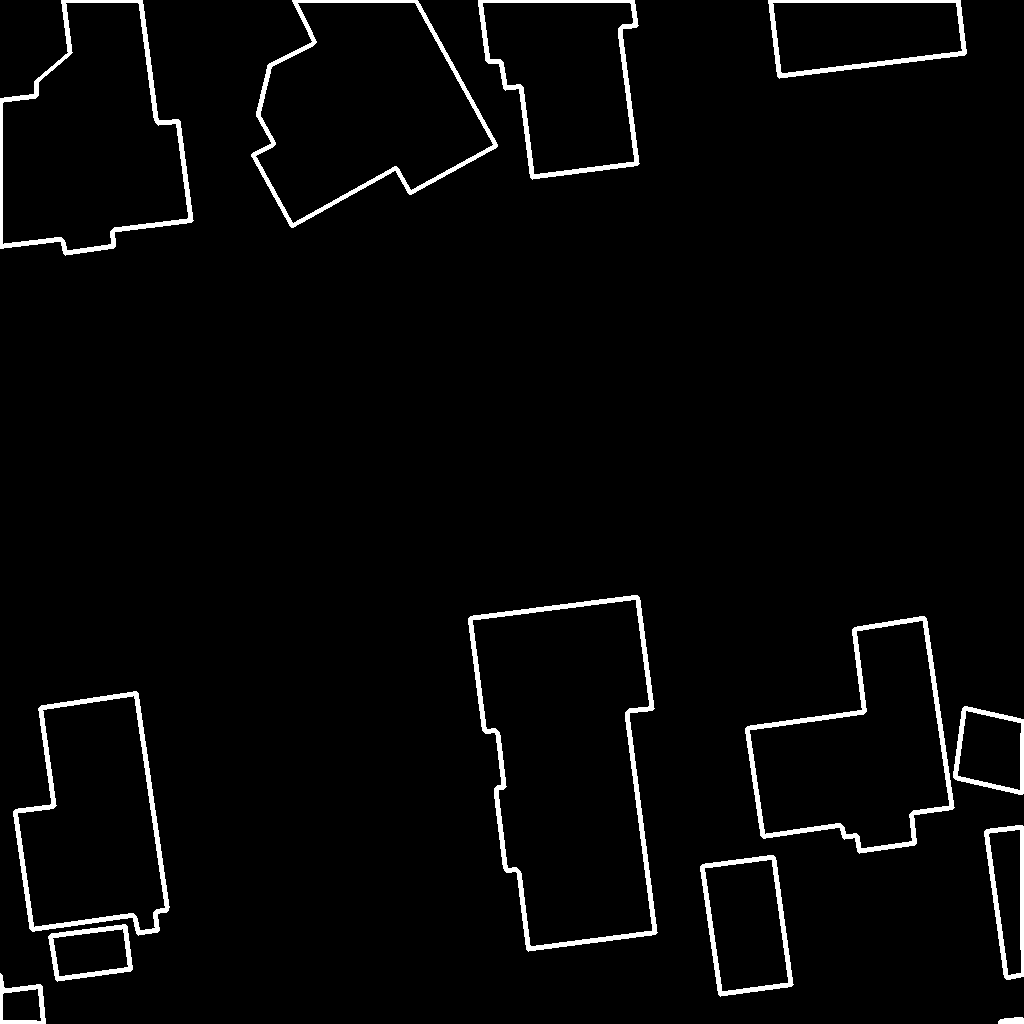building: (470, 597, 656, 950), (253, 0, 497, 227), (0, 0, 192, 254), (747, 618, 953, 852), (15, 693, 168, 934), (480, 0, 638, 178), (770, 0, 966, 77), (702, 857, 792, 995), (955, 708, 1024, 794), (986, 827, 1024, 979), (50, 926, 132, 980), (0, 972, 45, 1024), (1000, 1019, 1024, 1024)
